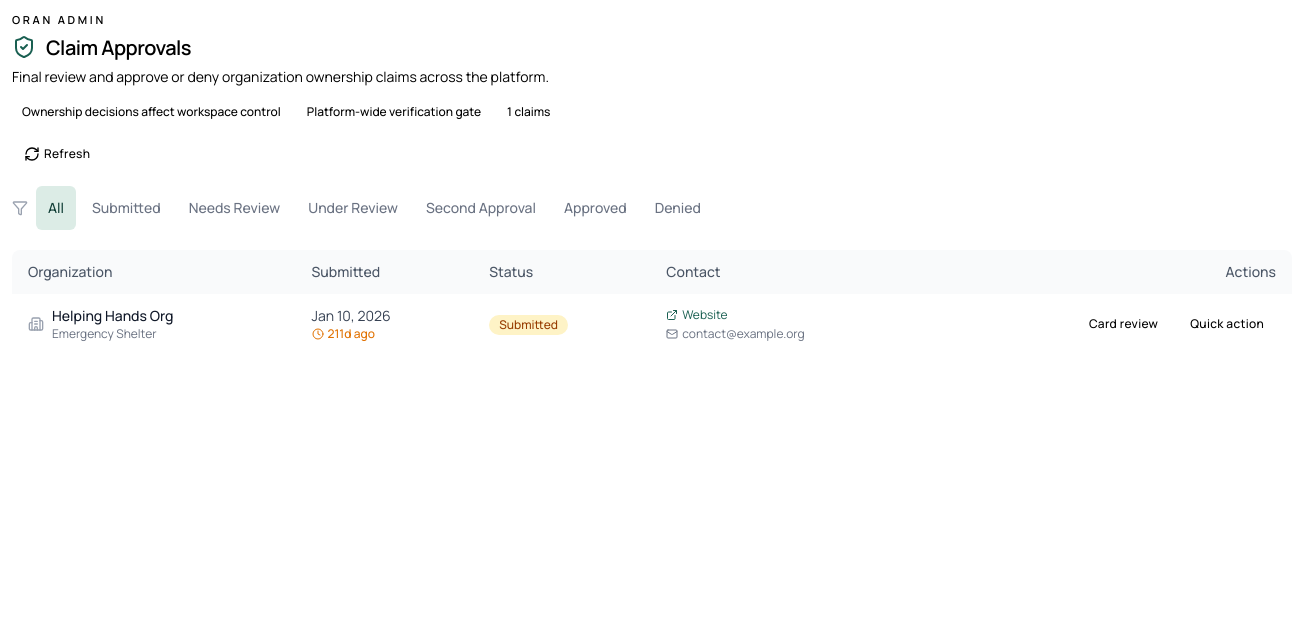
Test: oran admin approvals page › shows API decision errors and keeps review panel open
The image size is (1292, 636).
Expected: the text "Helping Hands Org" is shown, [52, 306, 173, 326]
Click the button "Quick action": (1227, 324) [1178, 308, 1276, 340]
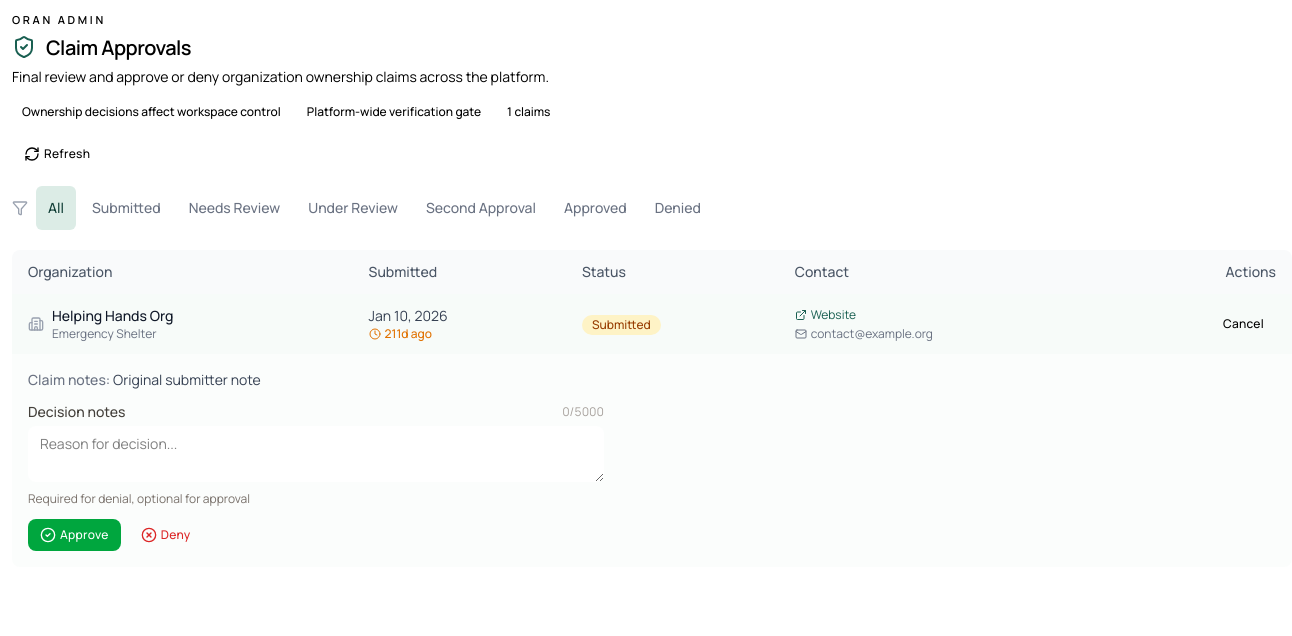
In the text box labelled "Decision notes": (316, 454) [28, 426, 604, 482], type "reason provided"
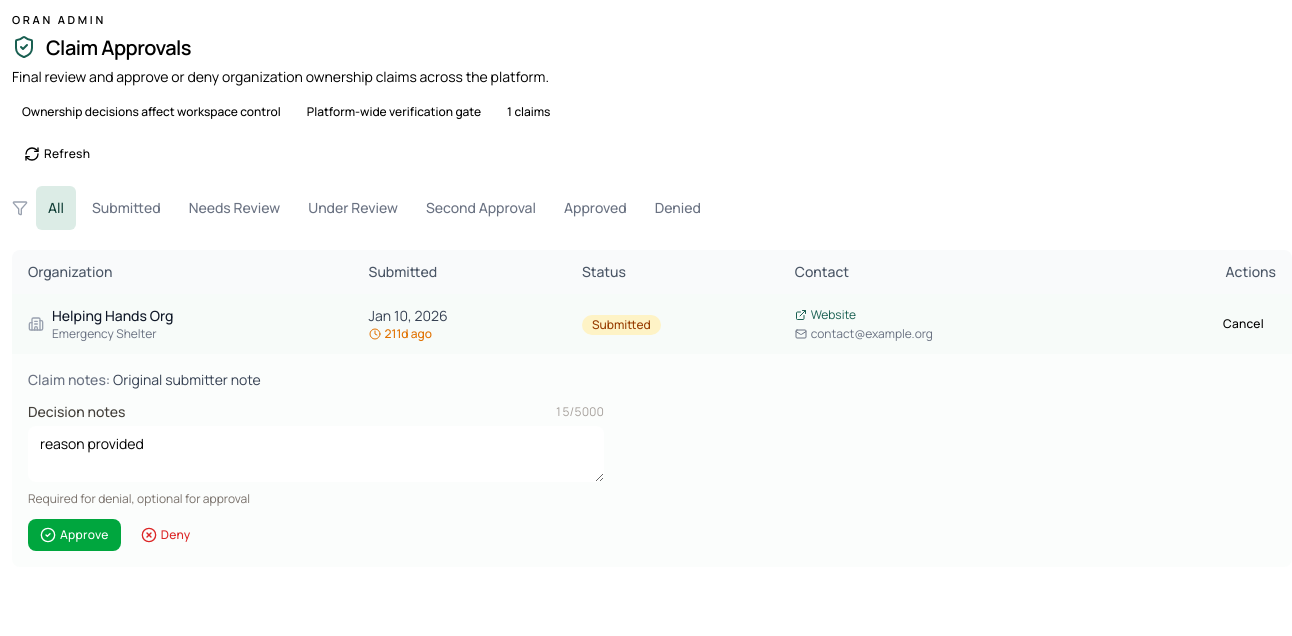
Click the button "Deny": (166, 535) [129, 519, 202, 551]
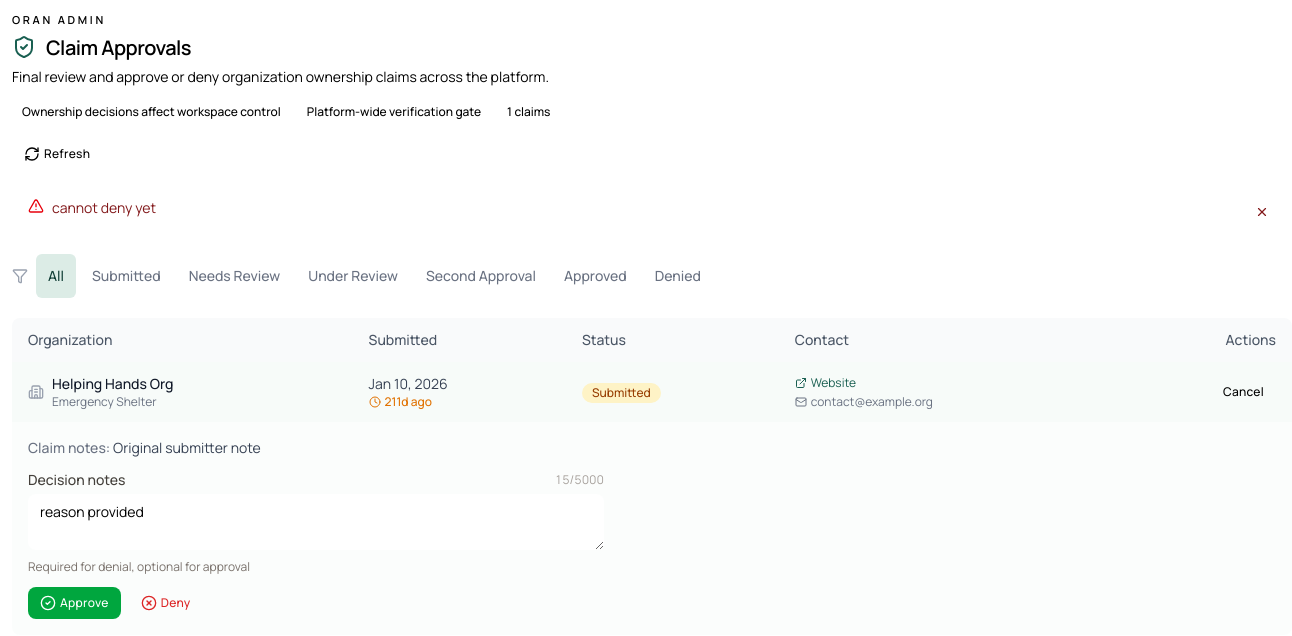
Result: the button "Cancel" is shown at [1211, 376, 1276, 408]
Result: the message reads "cannot deny yet" at [52, 198, 156, 217]
